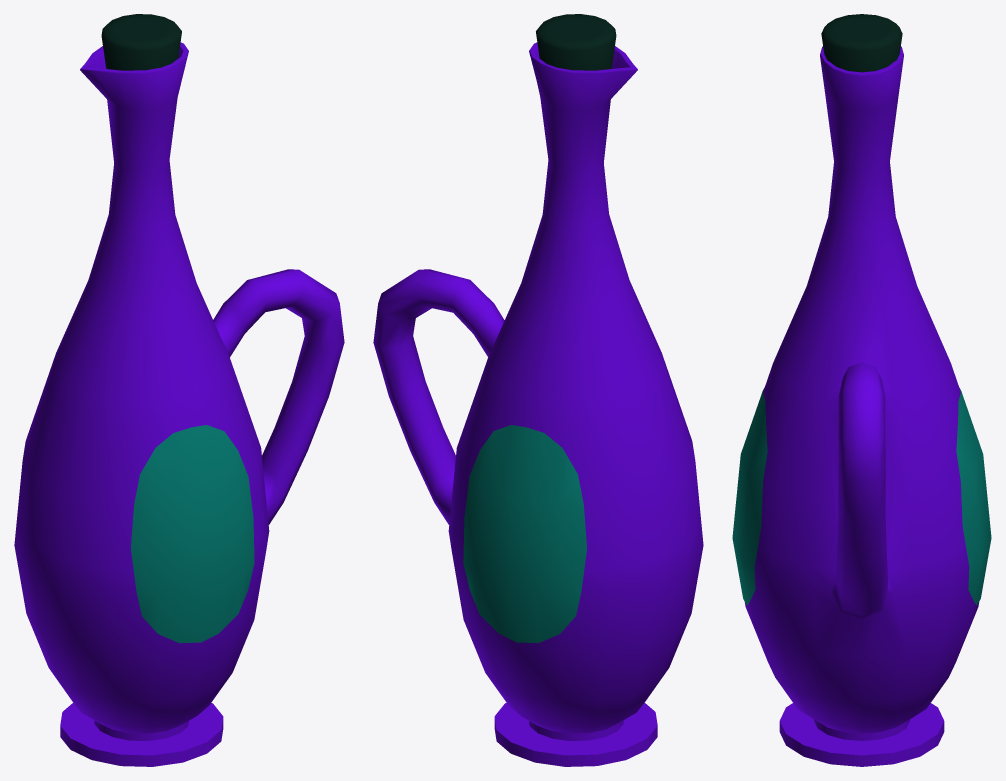
File: Glass Bottle 04.fbx
3 renders of one model, left to right at view 1: azimuth 30°, elevation 25°; view 2: azimuth 150°, elevation 25°; view 3: azimuth 270°, elevation 25°, orthographic.
Visible parts, largest first — view 1: Glass_bottle_04; view 2: Glass_bottle_04; view 3: Glass_bottle_04.
Part boxes in pixels (bbox=[...]): Glass_bottle_04: bbox=[14, 14, 344, 766]; Glass_bottle_04: bbox=[373, 14, 703, 766]; Glass_bottle_04: bbox=[732, 14, 991, 766].
Bounding box in the file's own units: 22.73 × 16.42 × 49.13.
